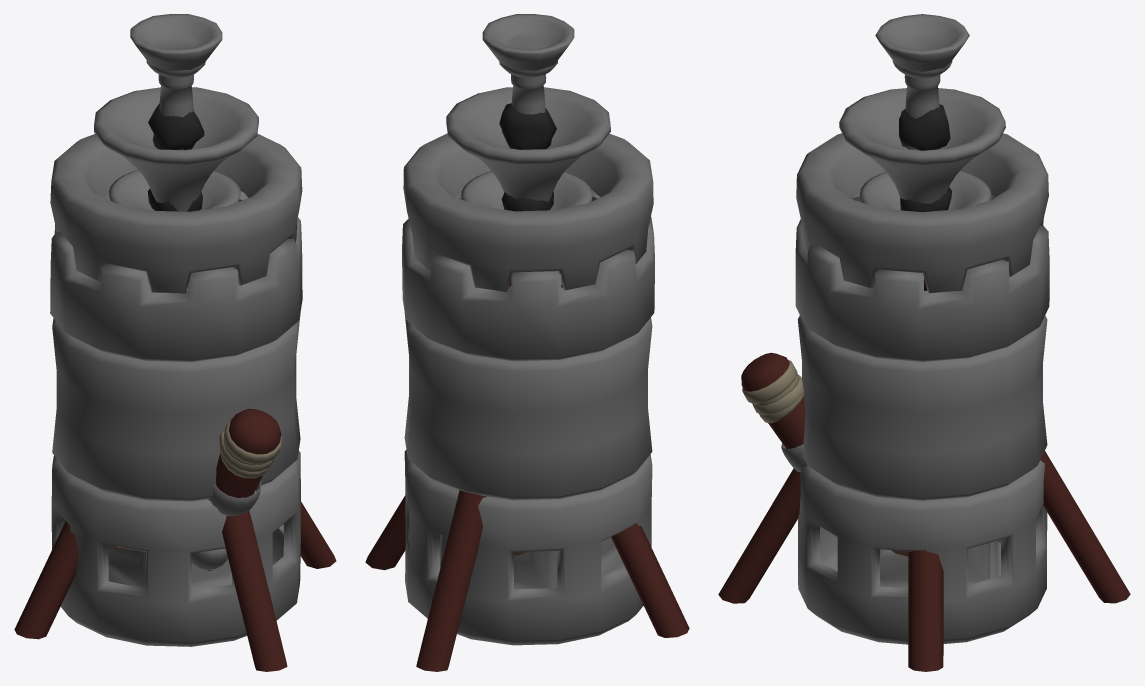
File: TI5 - IluminacaoAssets.fbx
The picture shows the model from 3 angles, left to right: view 1: azimuth 30°, elevation 25°; view 2: azimuth 150°, elevation 25°; view 3: azimuth 270°, elevation 25°; orthographic projection.
Parts seen in each view (by area): view 1: BraseiroAsteca, Braseiro, Apoios, Pilar, Madeira, Brasa, Coluna, Carvao, Faixas, Apoio; view 2: BraseiroAsteca, Apoios, Braseiro, Pilar, Brasa, Coluna, Carvao; view 3: BraseiroAsteca, Apoios, Braseiro, Pilar, Brasa, Madeira, Coluna, Faixas, Carvao.
Part boxes in pixels (bbox=[...]): BraseiroAsteca: bbox=[50, 133, 302, 646]; Braseiro: bbox=[94, 87, 258, 211]; Apoios: bbox=[14, 199, 336, 671]; Pilar: bbox=[130, 14, 222, 149]; Madeira: bbox=[208, 408, 281, 570]; Brasa: bbox=[109, 170, 240, 211]; Coluna: bbox=[108, 544, 231, 590]; Carvao: bbox=[148, 103, 204, 149]; Faixas: bbox=[219, 416, 282, 478]; Apoio: bbox=[191, 480, 261, 570]; BraseiroAsteca: bbox=[402, 133, 654, 645]; Apoios: bbox=[365, 279, 689, 671]; Braseiro: bbox=[446, 87, 610, 201]; Pilar: bbox=[482, 14, 574, 114]; Brasa: bbox=[461, 171, 592, 211]; Coluna: bbox=[440, 535, 624, 589]; Carvao: bbox=[499, 103, 556, 149]; BraseiroAsteca: bbox=[795, 133, 1049, 644]; Apoios: bbox=[718, 278, 1130, 671]; Braseiro: bbox=[839, 88, 1005, 203]; Pilar: bbox=[875, 14, 969, 150]; Brasa: bbox=[860, 170, 991, 212]; Madeira: bbox=[741, 352, 805, 448]; Coluna: bbox=[880, 540, 1000, 588]; Faixas: bbox=[742, 359, 804, 423]; Carvao: bbox=[898, 104, 950, 150].
Bounding box in the file's own units: 97.57 × 166 × 110.
